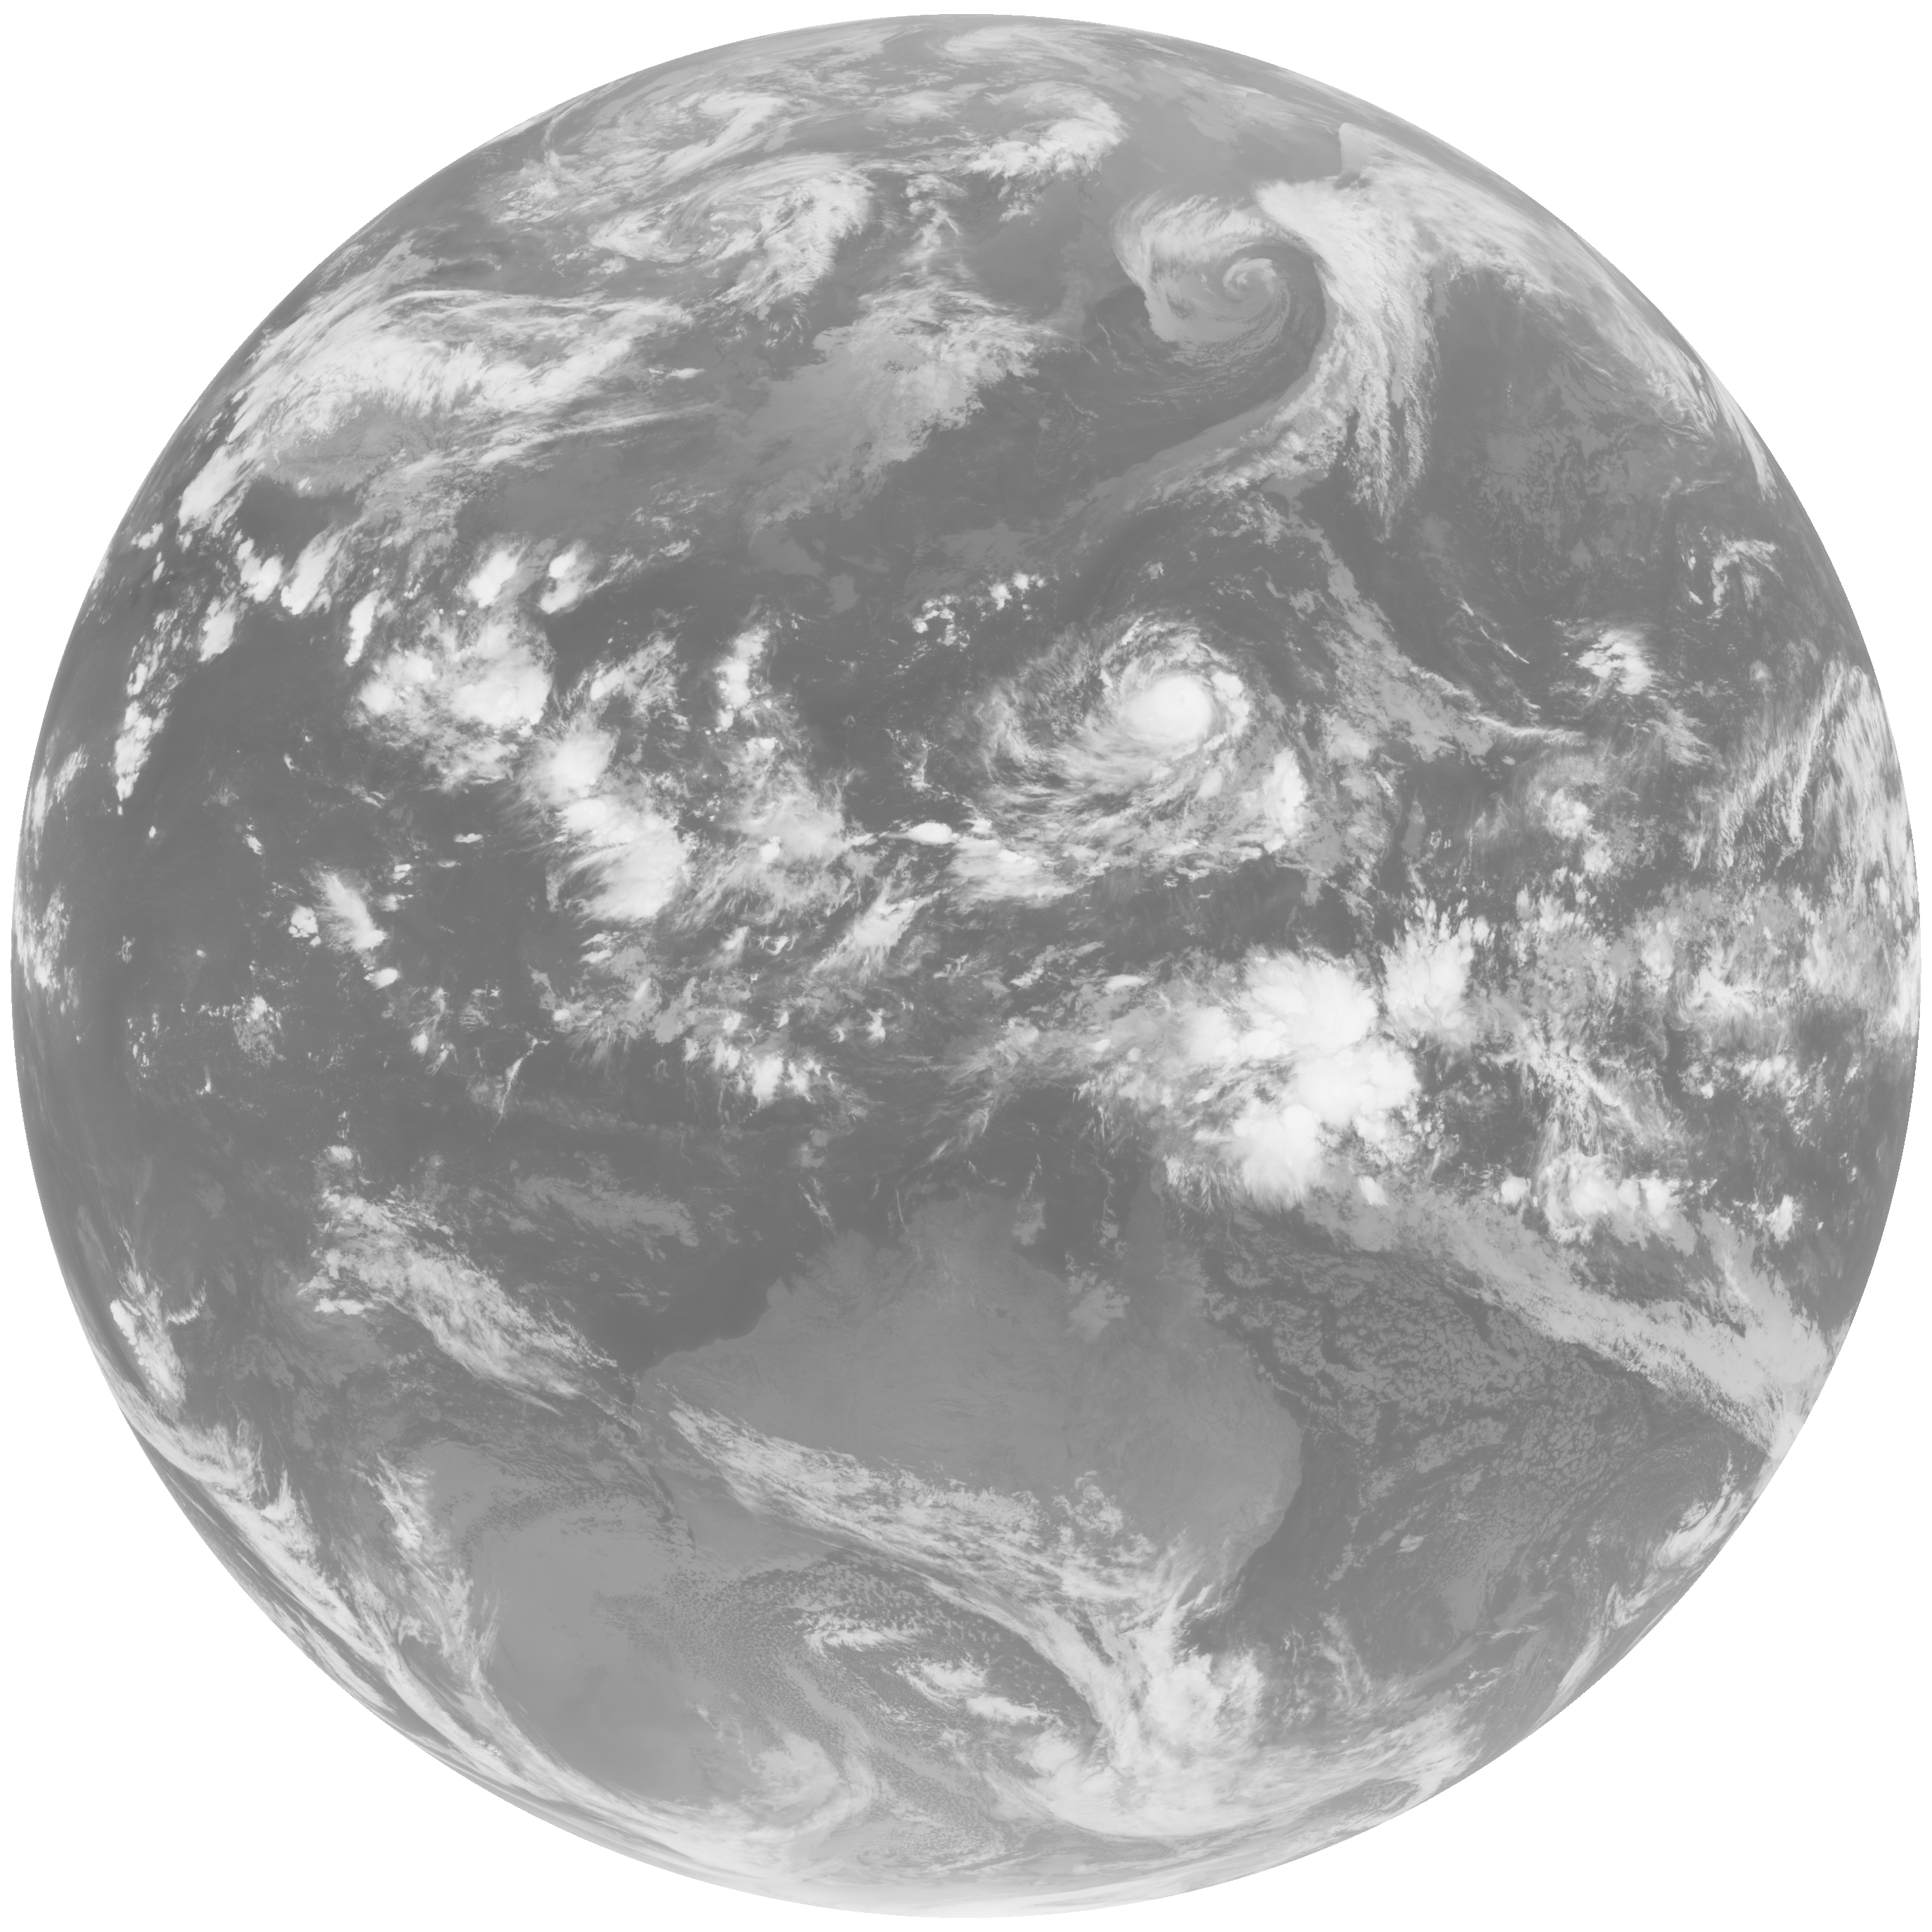typhoon: (918, 552, 1345, 925)
